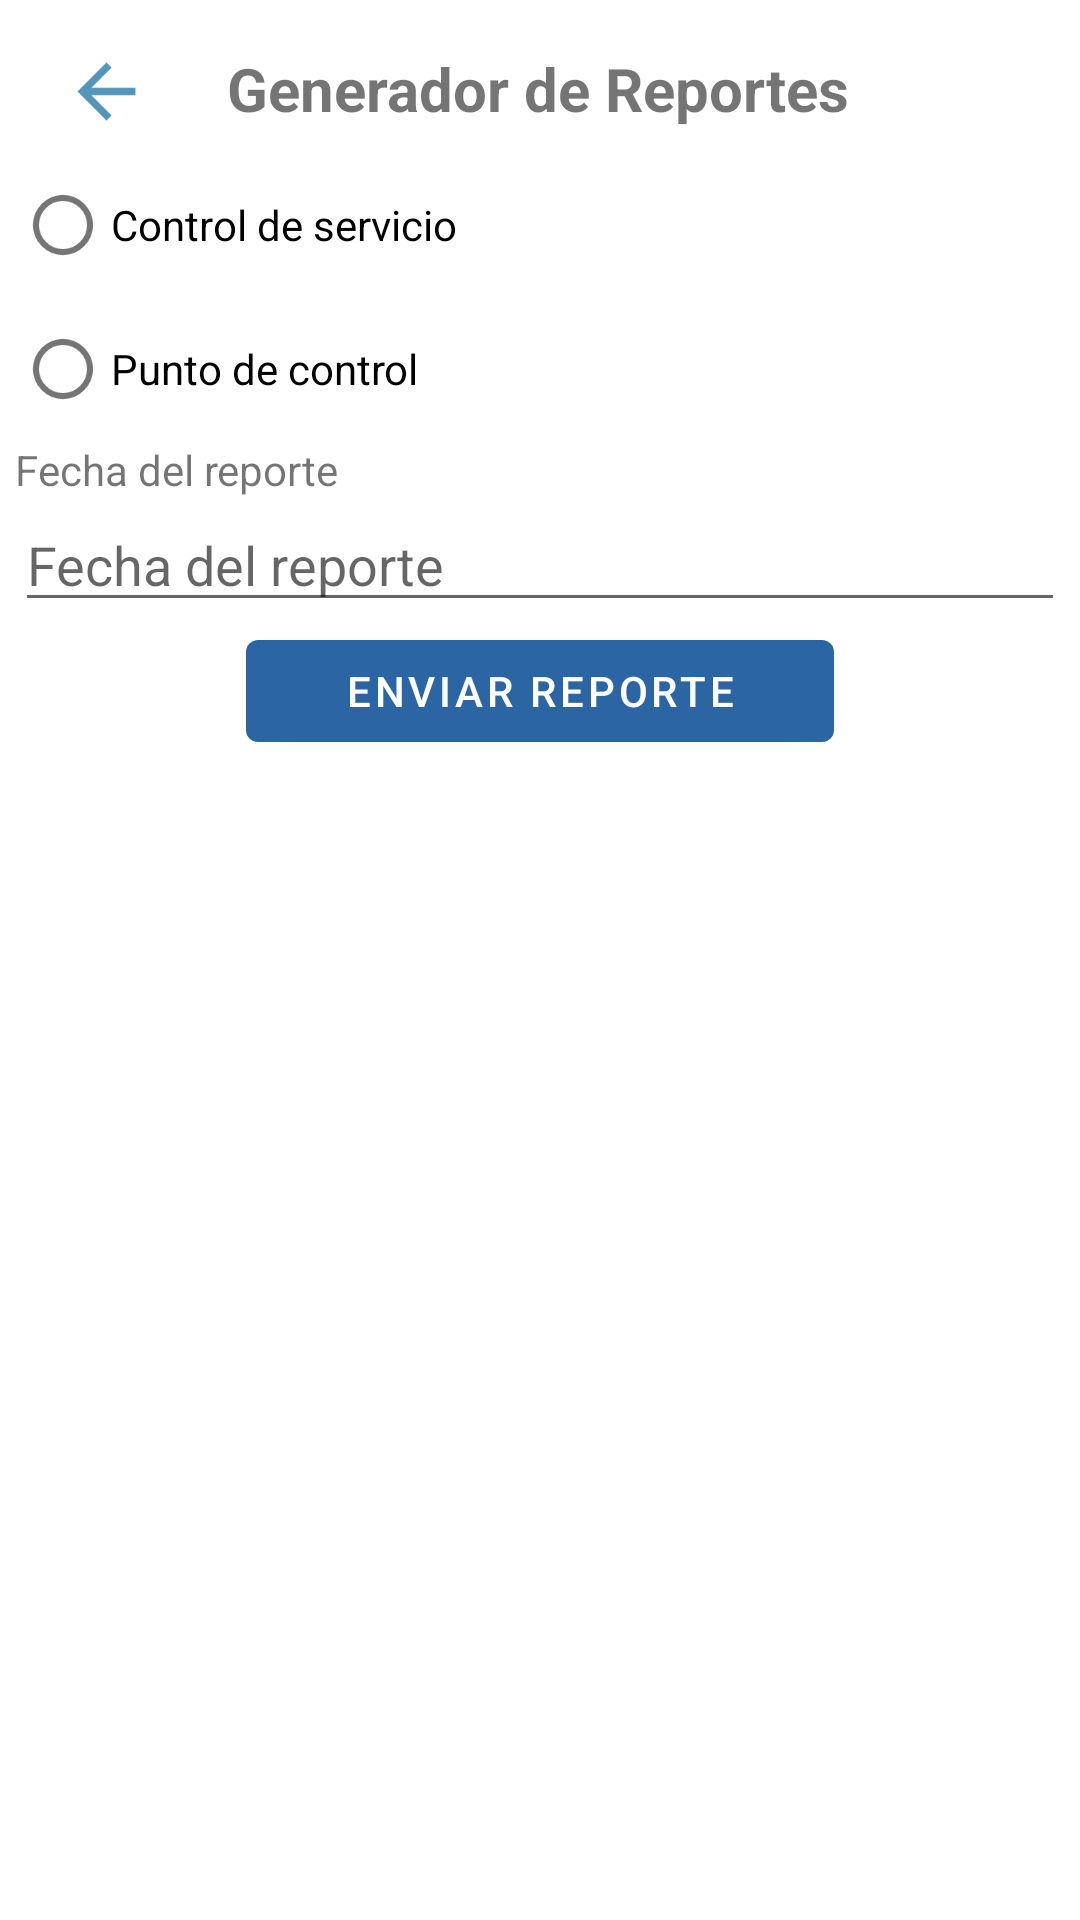

Point at icon controls on the screen. Image size 1080px×1920px, points as (x=x, y=y).
arrow: (x=106, y=91)
